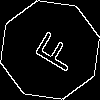F: (25, 25, 80, 75)
